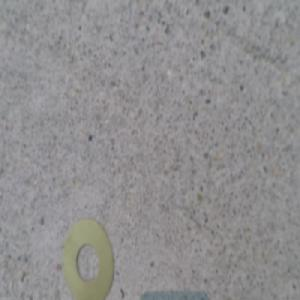Washer: (63, 213, 114, 299)
